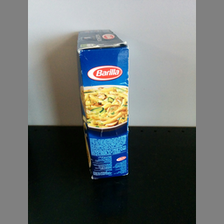pasta: (77, 29, 130, 180)
